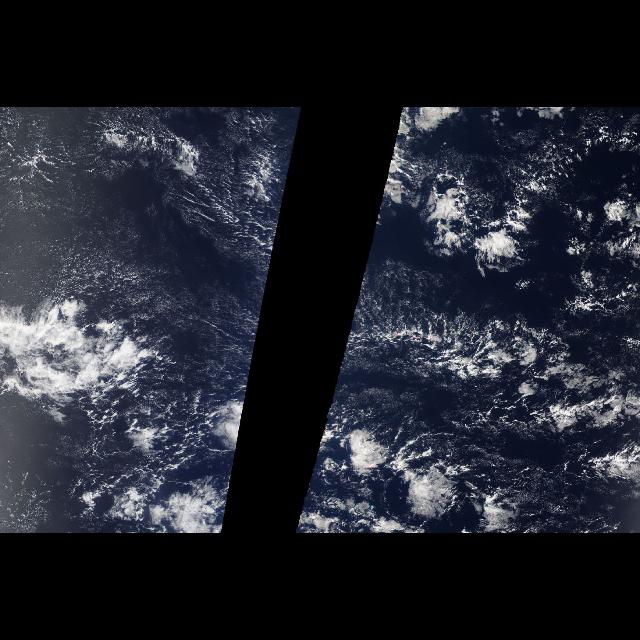Fish: (323, 295, 632, 425), (8, 295, 266, 425)
Flower: (294, 398, 532, 534), (218, 430, 240, 532)
Gravel: (14, 122, 266, 278)
Sugar: (3, 167, 236, 311)
